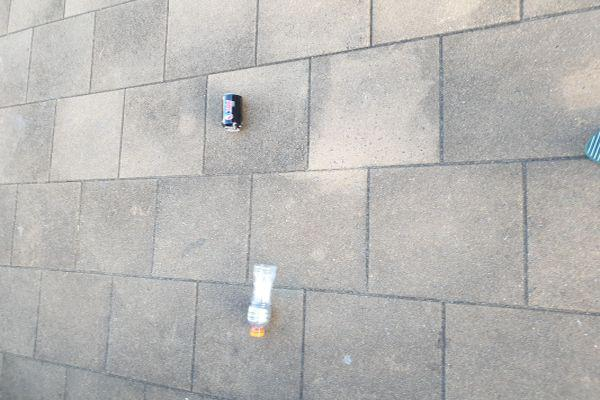Plastic Bottle: (247, 263, 278, 338), (221, 93, 243, 132)
